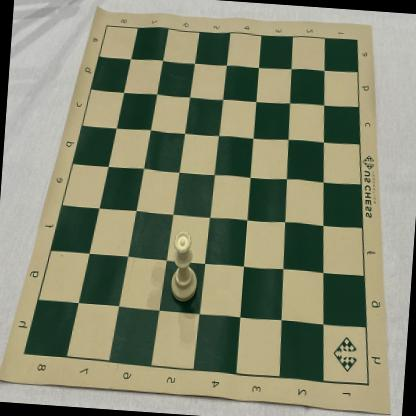white-queen: (169, 230, 201, 304)
